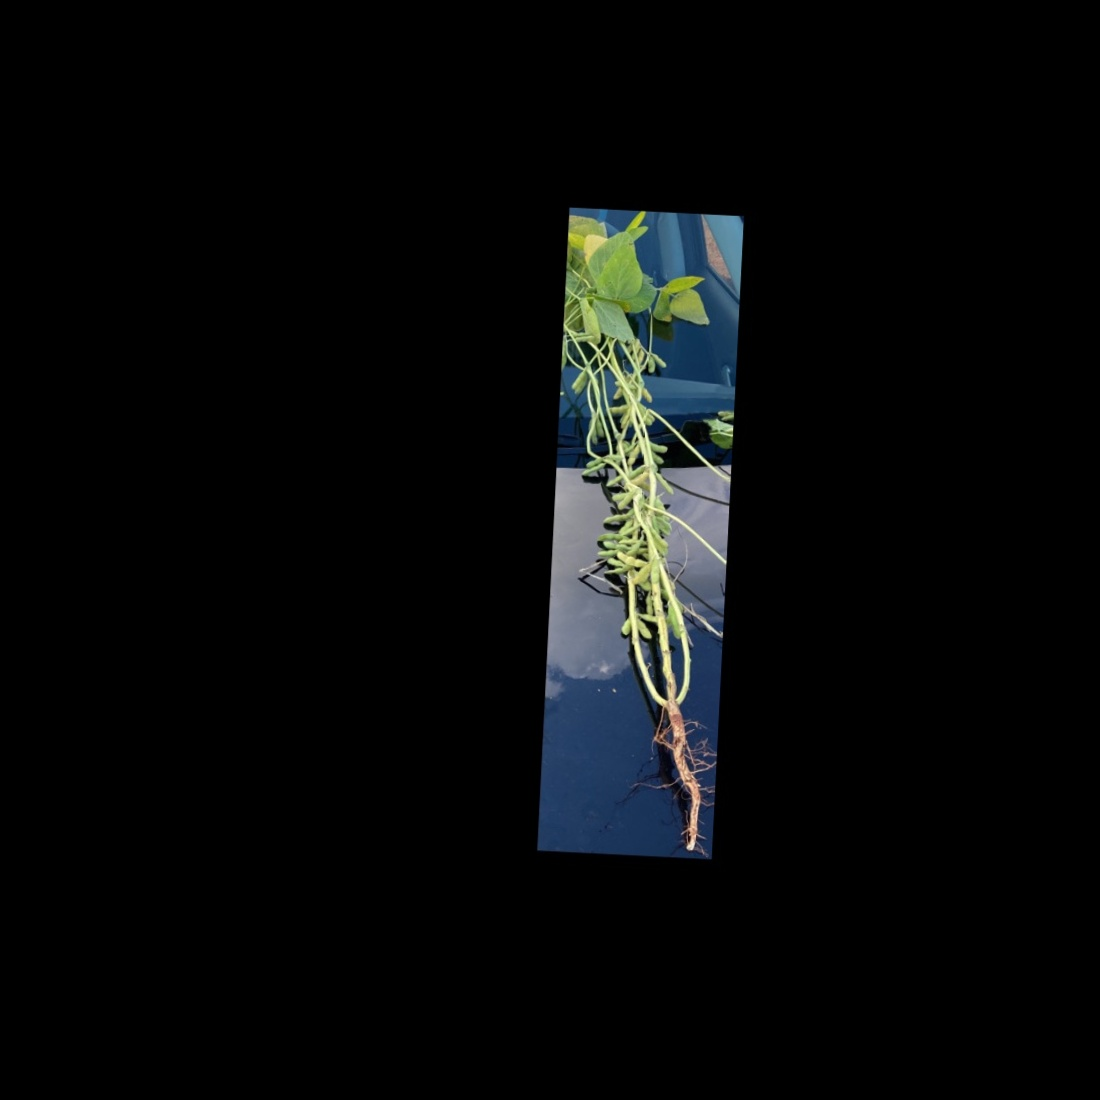pod: (615, 549, 651, 568), (654, 470, 678, 496), (631, 617, 655, 642), (613, 487, 635, 513), (569, 365, 588, 393), (601, 511, 635, 527), (625, 439, 643, 468), (647, 347, 668, 370), (645, 351, 660, 375), (604, 402, 629, 415)
soy: (542, 213, 742, 843)
